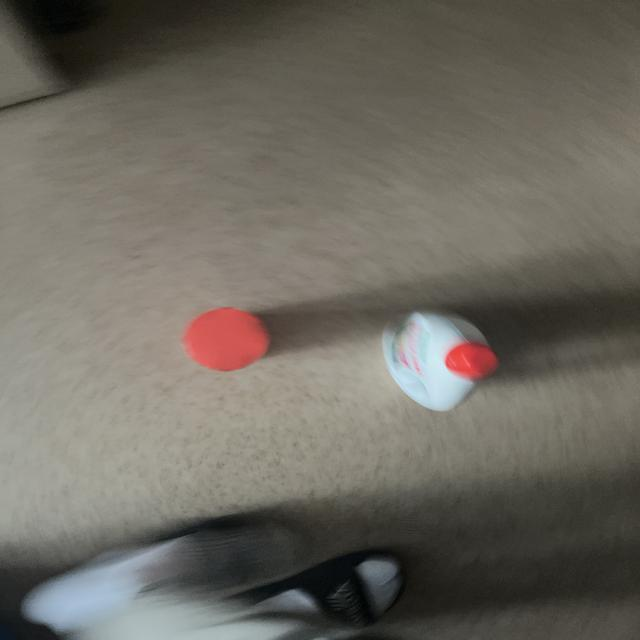przeszkoda: (181, 308, 270, 371)
